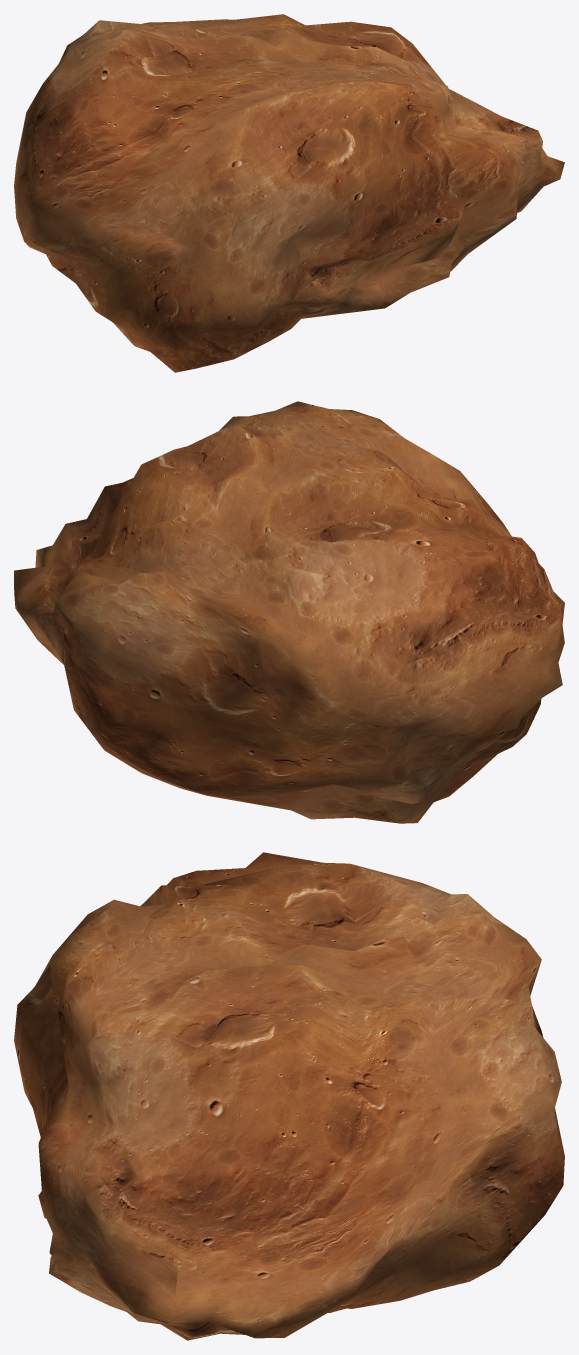
Rendered from Asteroid_04_L1.FBX.
The picture shows the model from 3 angles, top to bottom: view 1: azimuth 30°, elevation 25°; view 2: azimuth 150°, elevation 25°; view 3: azimuth 270°, elevation 25°; orthographic projection. The views are drawn at different scales.
Visible parts, largest first — view 1: Asteroid; view 2: Asteroid; view 3: Asteroid.
Boxes of the visible parts, box(x1,y1,x2,y2) form: Asteroid: box(14, 14, 564, 372); Asteroid: box(14, 401, 564, 823); Asteroid: box(14, 852, 564, 1340).
Size of the model in its own units: 3.06 by 1.7 by 2.17.
